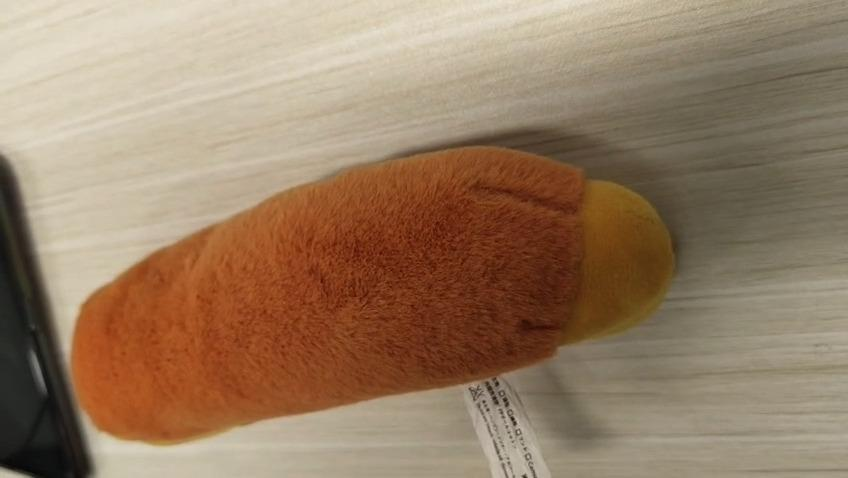hotdog: (69, 145, 673, 445)
